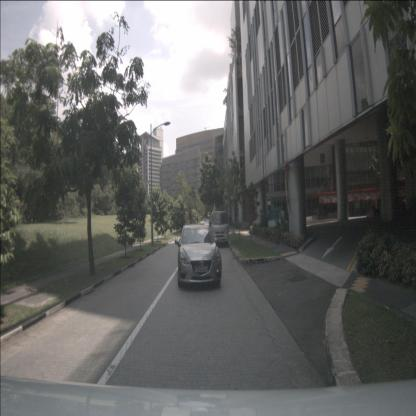vehicle-car: (178, 224, 222, 288)
vehicle-truck: (210, 210, 228, 247)
